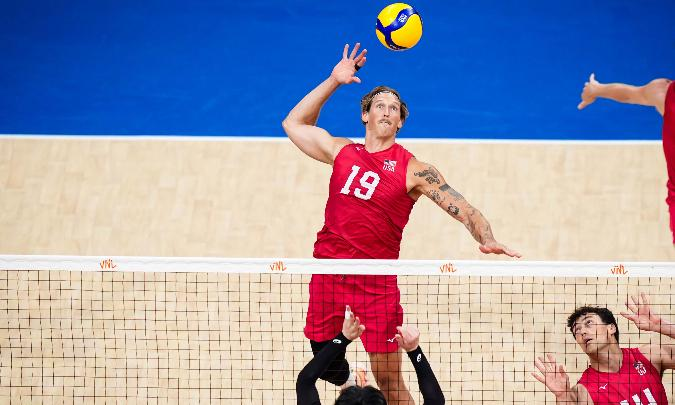ballon_volley: (374, 2, 424, 52)
